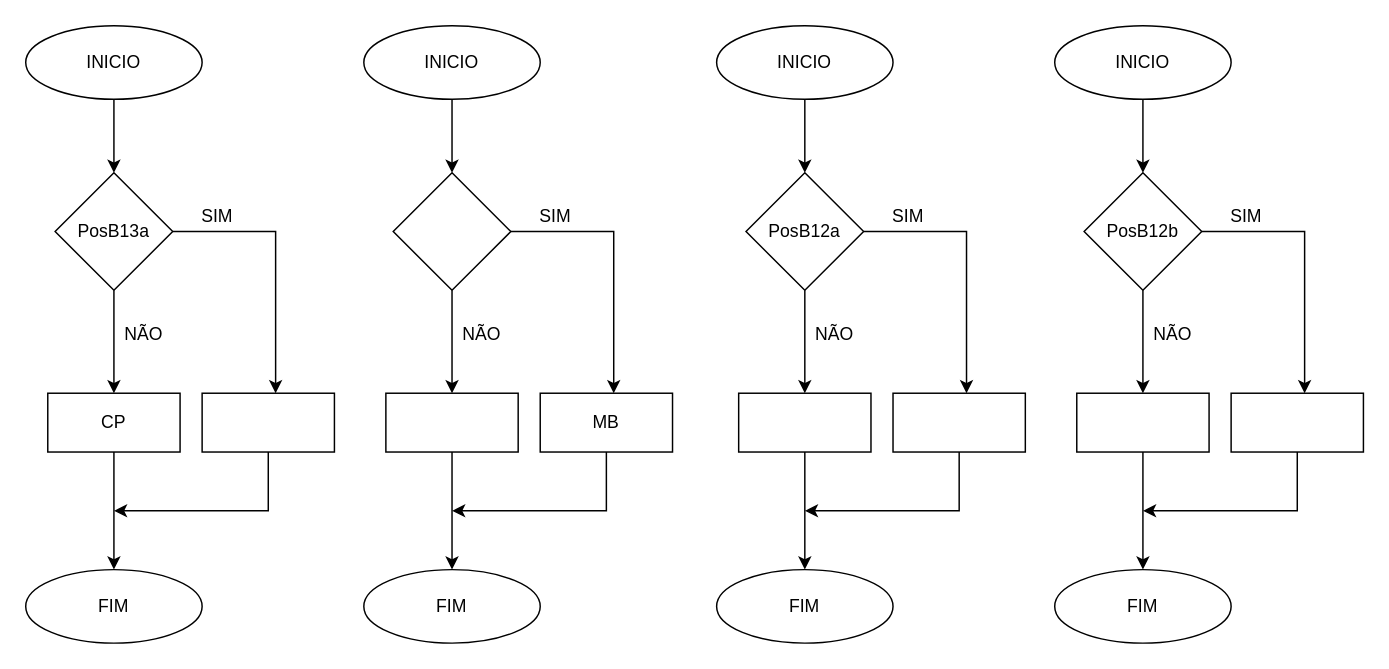
Some shapes in this 1389 by 669 pixel diagram are drawn without their labels. The centre of each missing label's shape, as x and y in pixels:
"CB" goes at [267,422].
"CM" goes at [958,422].
"CPL" goes at [804,422].
"MM" goes at [1296,422].
"MP" goes at [451,422].
"MPL" goes at [1142,422].
"PosB13b" goes at [451,230].
